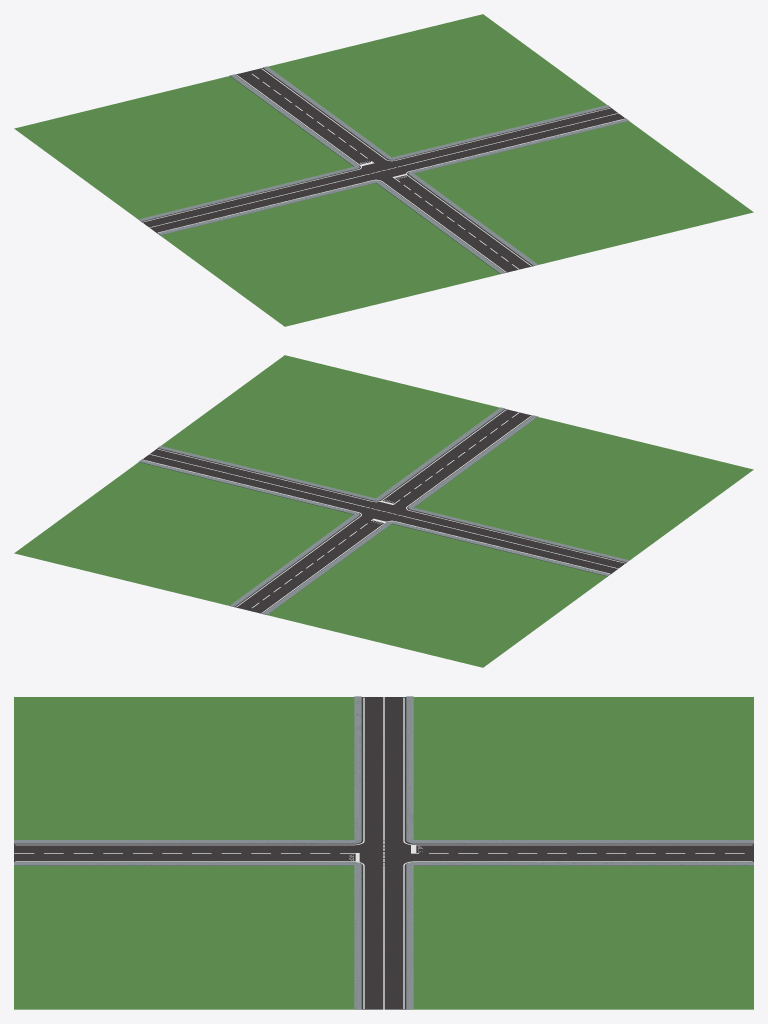
The model's file is stop.dae.
3 renders of one model, top to bottom at view 1: azimuth 30°, elevation 25°; view 2: azimuth 150°, elevation 25°; view 3: azimuth 270°, elevation 25°, orthographic. The views are drawn at different scales.
Visible parts, largest first — view 1: SketchUp_041, SketchUp_040, SketchUp_042, SketchUp_043, SketchUp_029, SketchUp_001, SketchUp_002, SketchUp_003, SketchUp; view 2: SketchUp_042, SketchUp_043, SketchUp_041, SketchUp_040, SketchUp_029, SketchUp, SketchUp_002, SketchUp_003, SketchUp_001; view 3: SketchUp_040, SketchUp_043, SketchUp_041, SketchUp_042, SketchUp_029, SketchUp, SketchUp_001, SketchUp_002, SketchUp_003, SketchUp_027, SketchUp_028, SketchUp_015 (+1 smaller).
Part boxes in pixels (<box>): SketchUp_041: <box>160,183,500,326</box>; SketchUp_040: <box>414,121,753,264</box>; SketchUp_042: <box>14,76,353,219</box>; SketchUp_043: <box>268,14,606,157</box>; SketchUp_029: <box>141,68,625,272</box>; SketchUp_001: <box>262,66,609,160</box>; SketchUp_002: <box>157,180,505,273</box>; SketchUp_003: <box>138,74,359,221</box>; SketchUp: <box>408,118,628,265</box>; SketchUp_042: <box>267,524,607,667</box>; SketchUp_043: <box>14,462,353,605</box>; SketchUp_041: <box>414,417,753,560</box>; SketchUp_040: <box>161,355,499,498</box>; SketchUp_029: <box>142,409,626,613</box>; SketchUp: <box>158,407,505,501</box>; SketchUp_002: <box>408,415,629,562</box>; SketchUp_003: <box>262,521,610,614</box>; SketchUp_001: <box>139,459,359,606</box>; SketchUp_040: <box>14,866,354,1009</box>; SketchUp_043: <box>413,866,753,1009</box>; SketchUp_041: <box>14,697,354,839</box>; SketchUp_042: <box>413,697,753,839</box>; SketchUp_029: <box>14,697,753,1009</box>; SketchUp: <box>14,862,361,1009</box>; SketchUp_001: <box>406,862,753,1009</box>; SketchUp_002: <box>14,696,361,843</box>; SketchUp_003: <box>406,696,753,843</box>; SketchUp_027: <box>403,697,752,853</box>; SketchUp_028: <box>15,697,364,845</box>; SketchUp_015: <box>15,853,364,1008</box>.
Bounding box in the file's own units: 100 × 100 × 0.1.
Materials: 5 (2 with a texture image).
